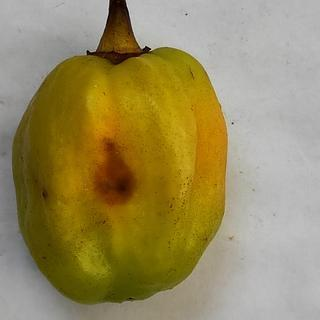Defect: (84, 131, 145, 213)
Fly-bites: (34, 186, 52, 208)
